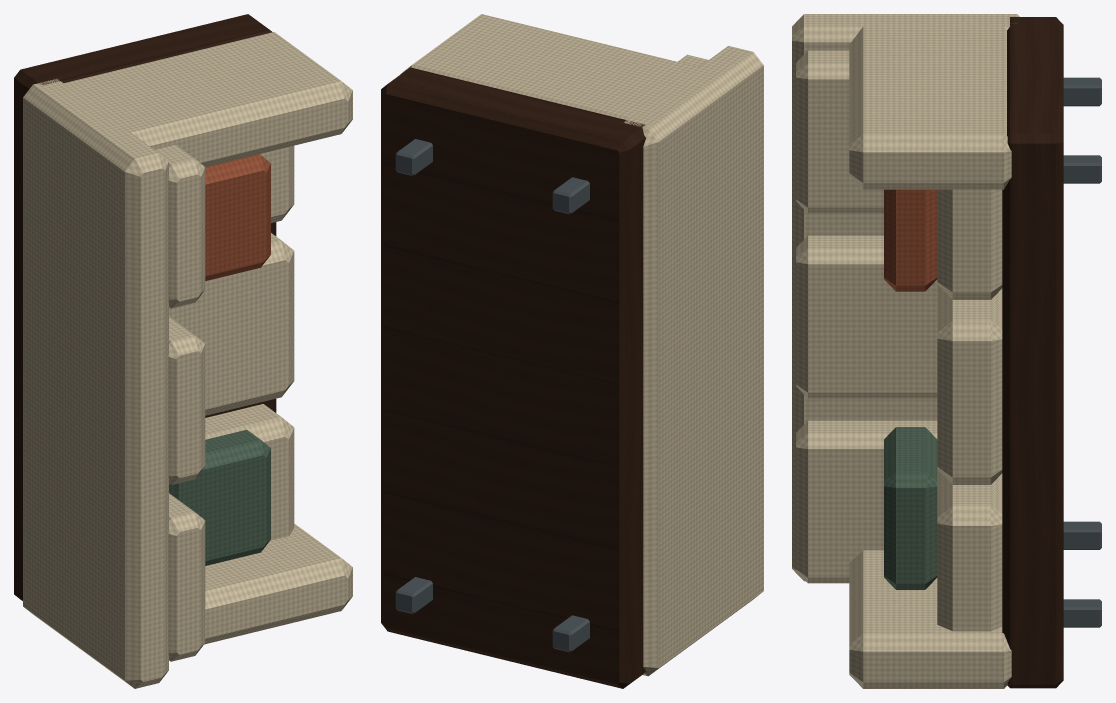
The model's file is garden_sofa.obj.
The picture shows the model from 3 angles, left to right: view 1: azimuth 30°, elevation 25°; view 2: azimuth 150°, elevation 25°; view 3: azimuth 270°, elevation 25°; orthographic projection. The views are drawn at different scales.
Parts seen in each view (by area): view 1: garden_sofa_fabric, garden_sofa_walnut, garden_sofa_sage, garden_sofa_clay; view 2: garden_sofa_walnut, garden_sofa_fabric, garden_sofa_metal; view 3: garden_sofa_fabric, garden_sofa_walnut, garden_sofa_sage, garden_sofa_clay, garden_sofa_metal.
Boxes of the visible parts, <box> form: garden_sofa_fabric: <box>23,32,352,688</box>; garden_sofa_walnut: <box>14,14,276,600</box>; garden_sofa_sage: <box>169,429,270,565</box>; garden_sofa_clay: <box>205,154,270,280</box>; garden_sofa_walnut: <box>381,67,645,688</box>; garden_sofa_fabric: <box>400,14,763,676</box>; garden_sofa_metal: <box>395,139,589,652</box>; garden_sofa_fabric: <box>792,14,1019,688</box>; garden_sofa_walnut: <box>1002,17,1063,688</box>; garden_sofa_sage: <box>884,427,937,589</box>; garden_sofa_clay: <box>884,189,937,291</box>; garden_sofa_metal: <box>1063,77,1101,627</box>.
Size of the model in its own units: 40.5 by 80 by 40.5.
Materials: 5 (5 with a texture image).
